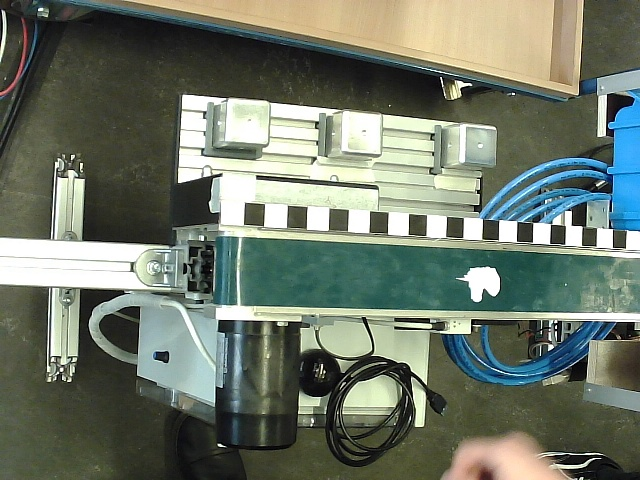unicorn: (455, 266, 501, 303)
